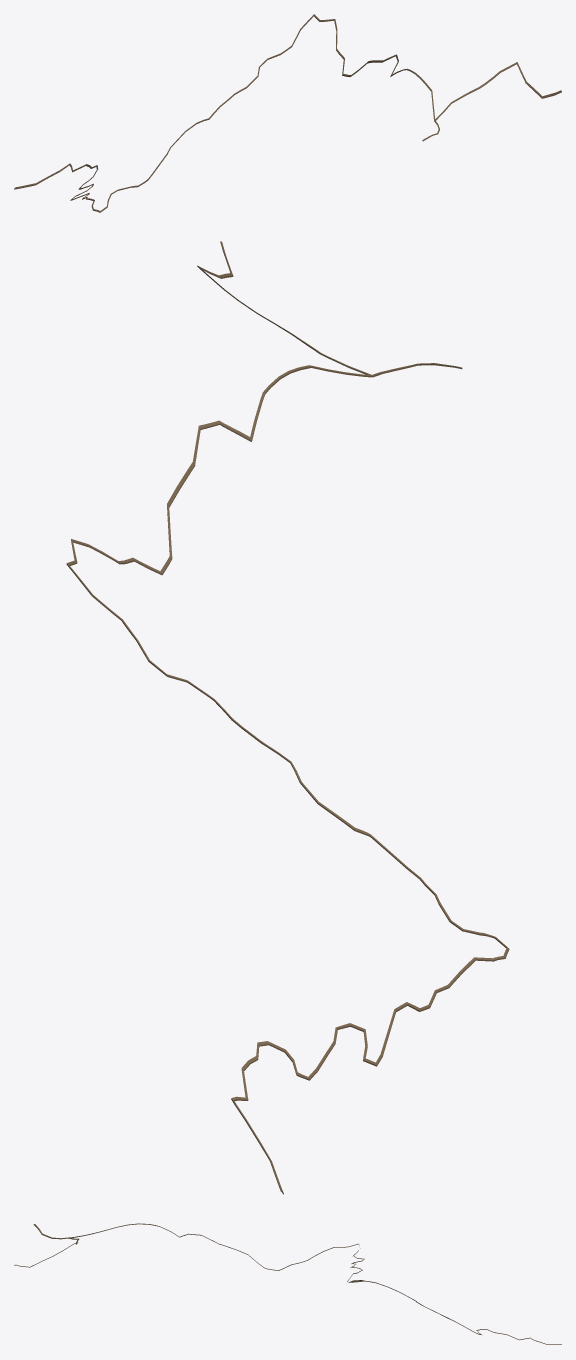
The picture shows the model from 3 angles, top to bottom: view 1: azimuth 30°, elevation 25°; view 2: azimuth 150°, elevation 25°; view 3: azimuth 270°, elevation 25°; orthographic projection. The views are drawn at different scales.
Size of the model in its own units: 345 by 248 by 506.
